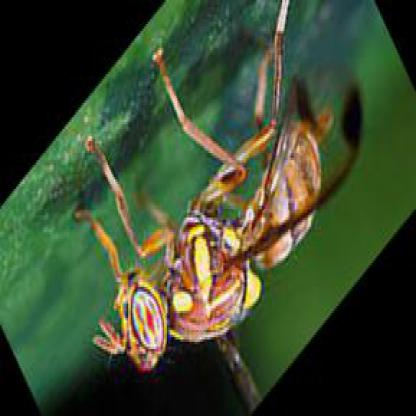fruit fly: (76, 38, 334, 375)
